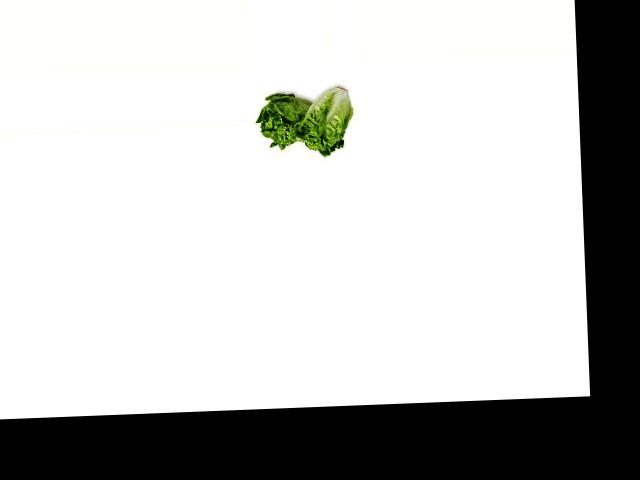lettuce: (255, 84, 318, 151)
